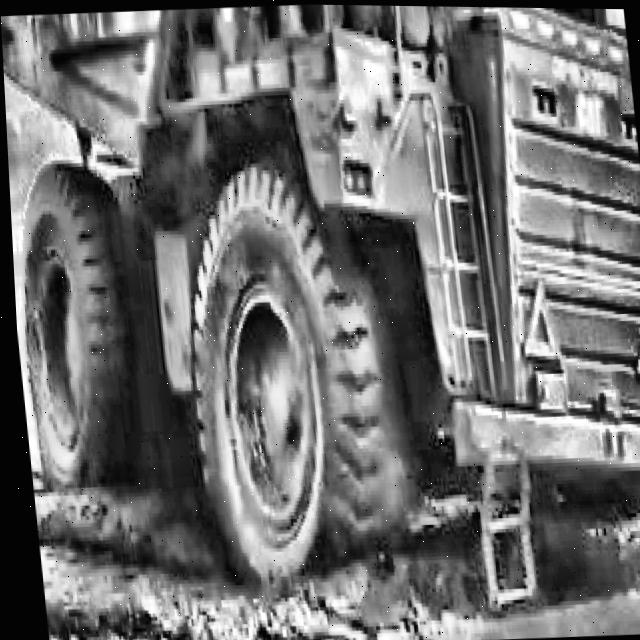dump_truck: (0, 0, 640, 606)
